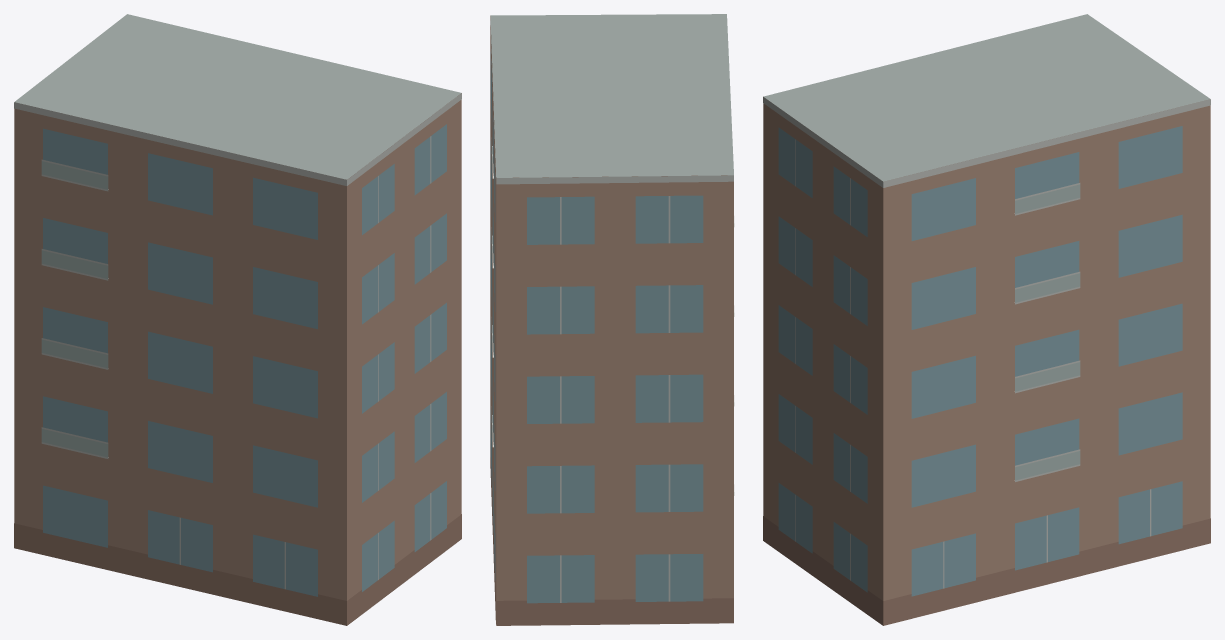
The model's file is survey-upis-32767732.glb.
The picture shows the model from 3 angles, left to right: view 1: azimuth 30°, elevation 25°; view 2: azimuth 150°, elevation 25°; view 3: azimuth 270°, elevation 25°; orthographic projection.
Parts seen in each view (by area): view 1: survey-upis-32767732.tmp; view 2: survey-upis-32767732.tmp; view 3: survey-upis-32767732.tmp.
Boxes of the visible parts, x1,y1,x2,y2 form: survey-upis-32767732.tmp: [14, 14, 461, 625]; survey-upis-32767732.tmp: [490, 14, 734, 625]; survey-upis-32767732.tmp: [763, 14, 1210, 625].
Size of the model in its own units: 13.73 by 16.95 by 15.49.
